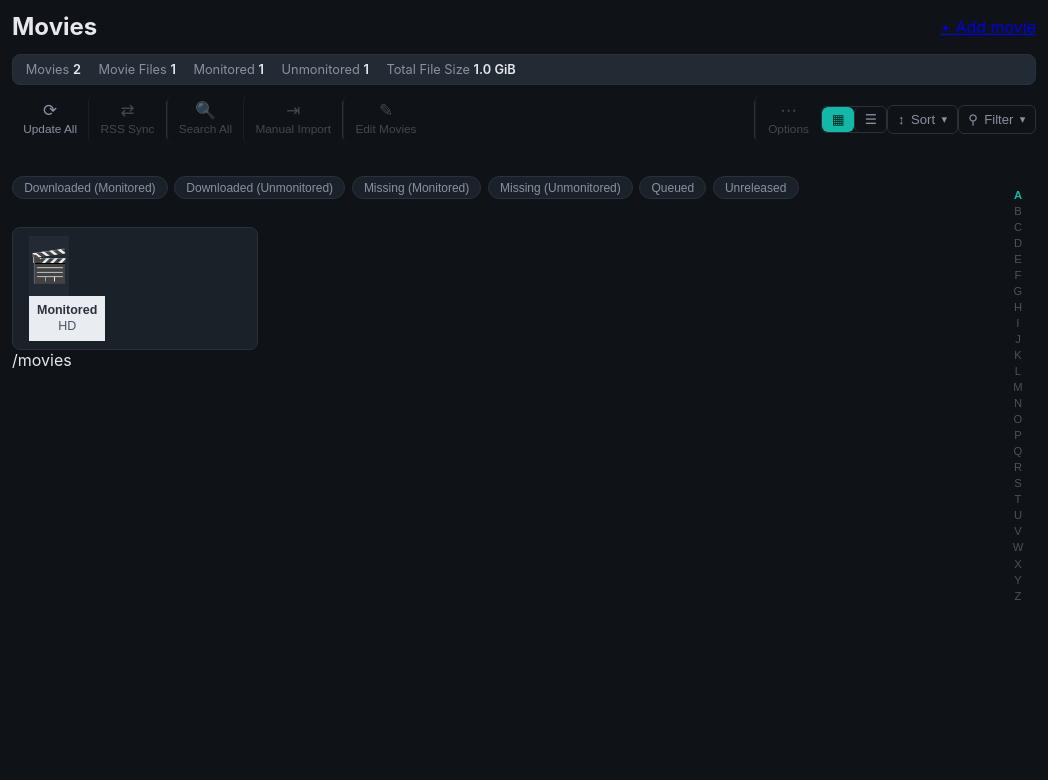
Test case: MoviesPage › Update All reports a status and refetches
expect the element with test id "movie-card-1" is shown: met, box [12,211,258,350]
Click the button with test id "movies-update-all" at (50, 120), box [12,95,88,144]
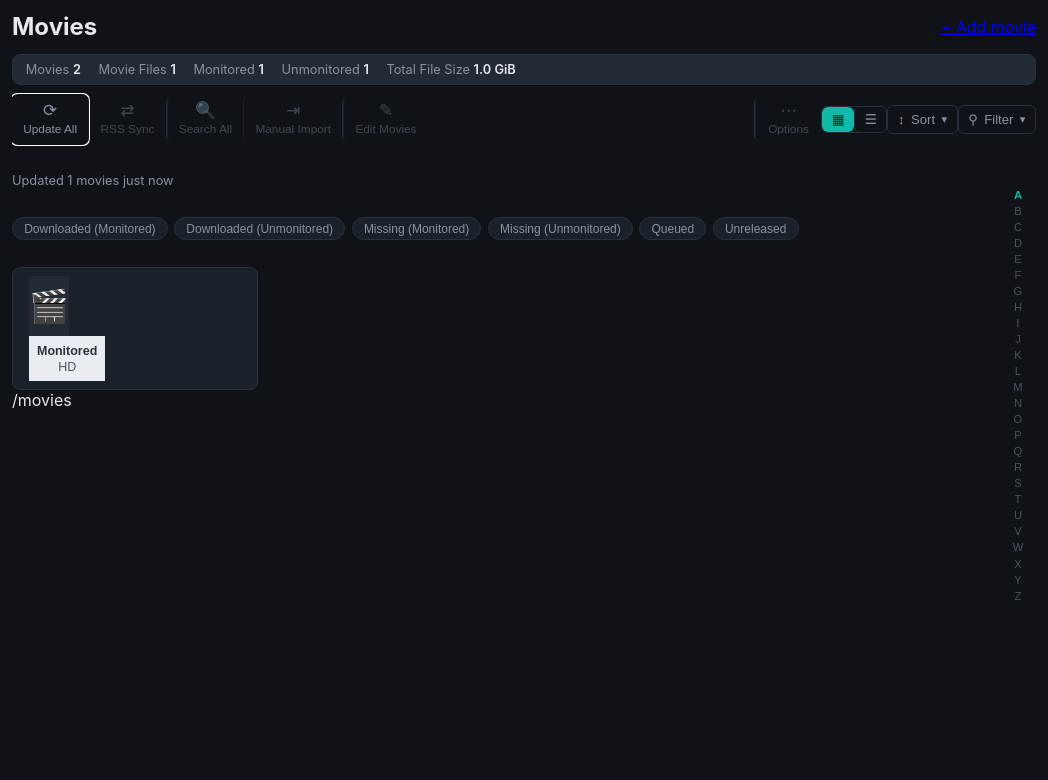
expect the message with test id "movies-status" reads "Updated 1 movies just now": met, box [12,173,174,188]
